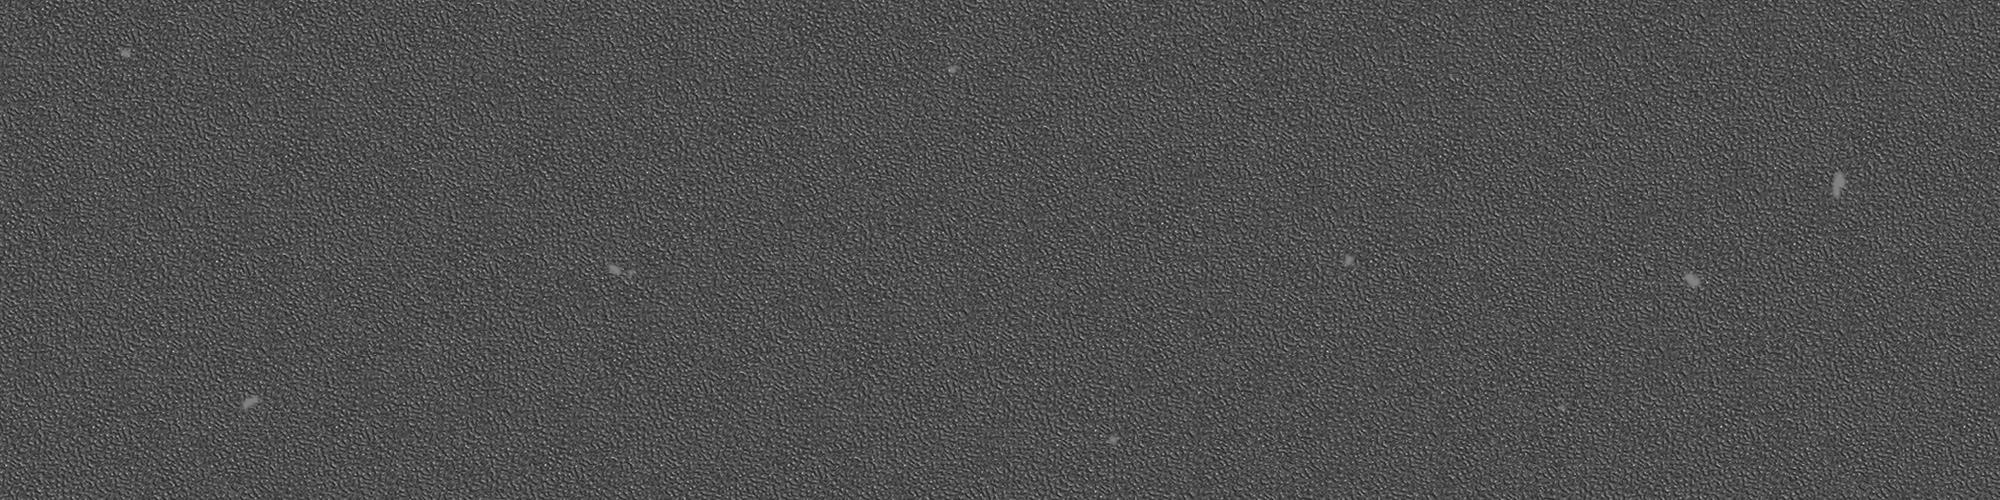Particles: (1827, 168, 1849, 205), (1677, 267, 1707, 293), (1099, 426, 1125, 450), (1335, 250, 1358, 274), (240, 393, 263, 412), (606, 261, 626, 281), (115, 43, 133, 62), (945, 62, 966, 77)
